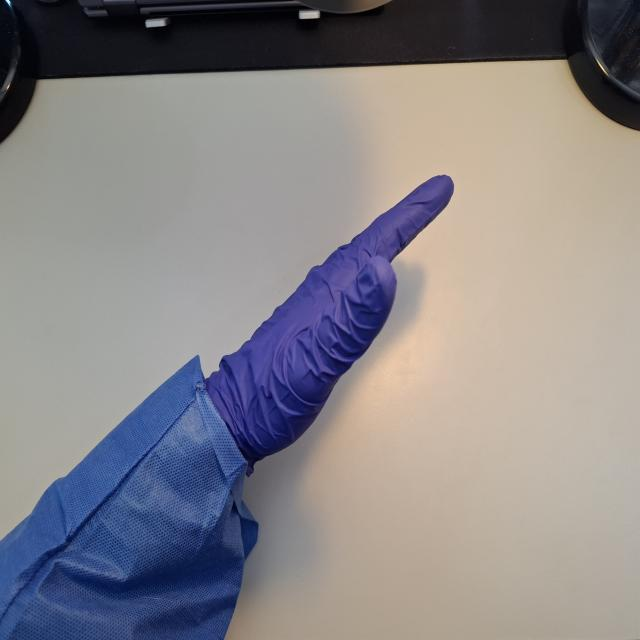glove_on: (196, 171, 456, 483)
